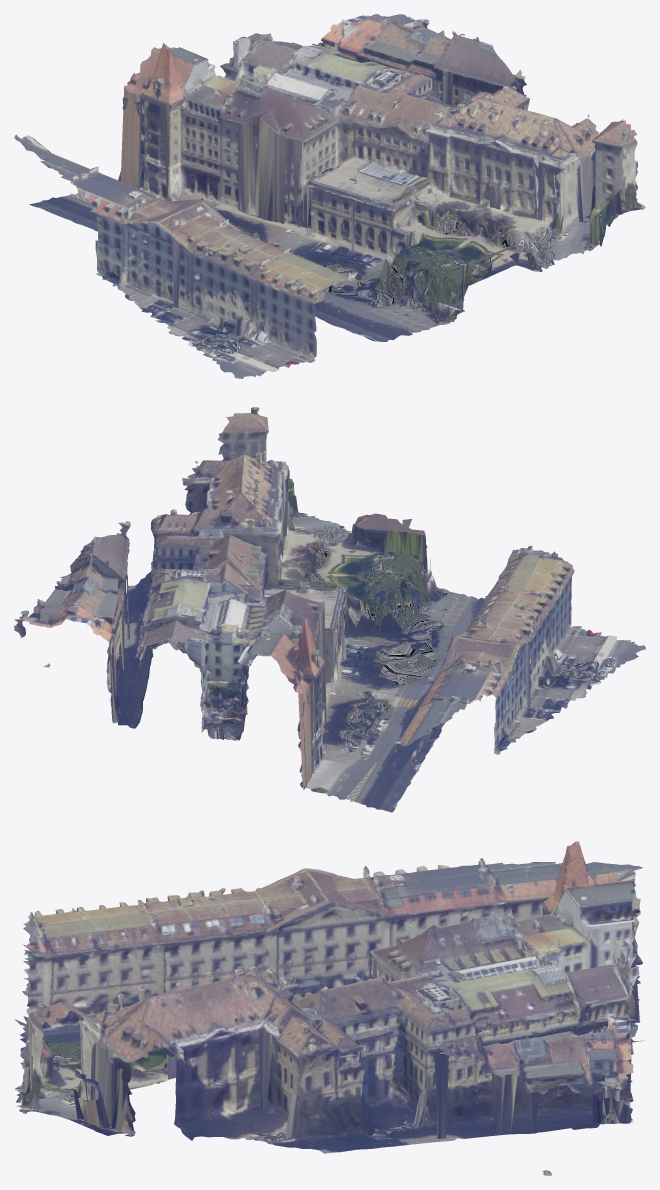
3 renders of one model, top to bottom at view 1: azimuth 30°, elevation 25°; view 2: azimuth 150°, elevation 25°; view 3: azimuth 270°, elevation 25°, orthographic. The views are drawn at different scales.
Size of the model in its own units: 104 by 37.41 by 105.
Materials: 1 (1 with a texture image).
